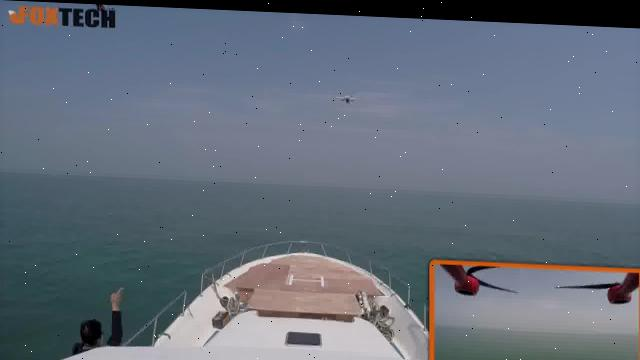drone: (322, 88, 363, 118)
